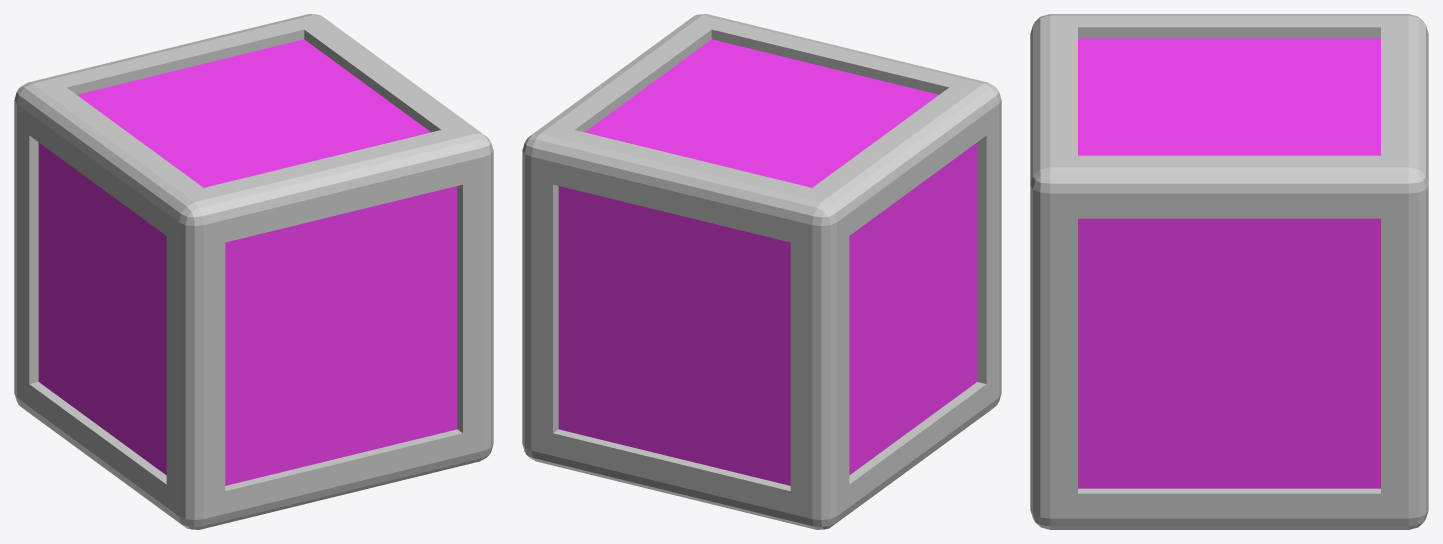
File: PickupRocketLauncher.fbx
3 renders of one model, left to right at view 1: azimuth 30°, elevation 25°; view 2: azimuth 150°, elevation 25°; view 3: azimuth 270°, elevation 25°, orthographic. The views are drawn at different scales.
Parts seen in each view (by area): view 1: Cube; view 2: Cube; view 3: Cube.
Part boxes in pixels (x1=…): Cube: x1=14, y1=14, x2=493, y2=529; Cube: x1=522, y1=14, x2=1001, y2=529; Cube: x1=1030, y1=14, x2=1428, y2=529.
Size of the model in its own units: 1.5 by 1.5 by 1.5.
